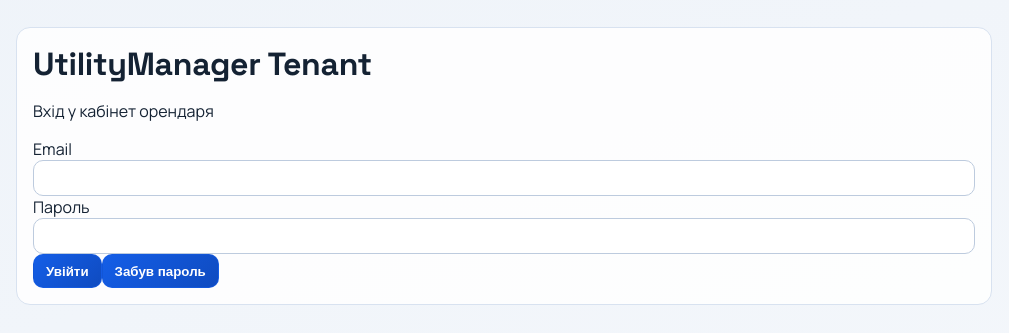
Tenant flow › shows localized error when tenant portal is disabled
This screenshot has width=1009, height=333.
In the field labelled "Email": point(504, 178) [33, 160, 975, 196], type "tenant@example.com"
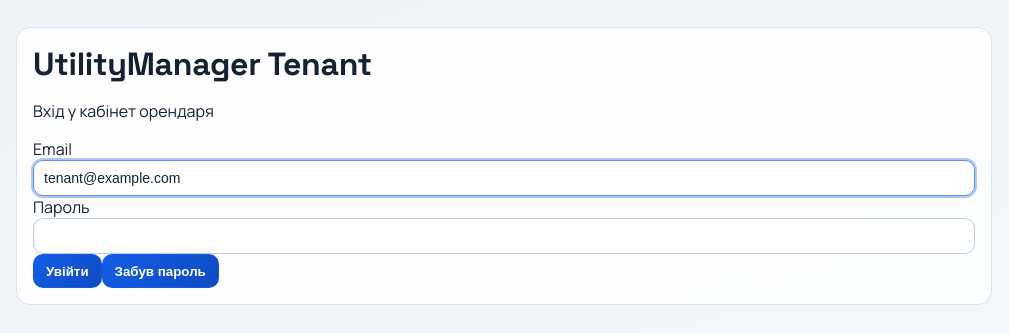
In the password field labelled "Пароль": point(504, 236) [33, 218, 975, 254], type "StrongPass1"
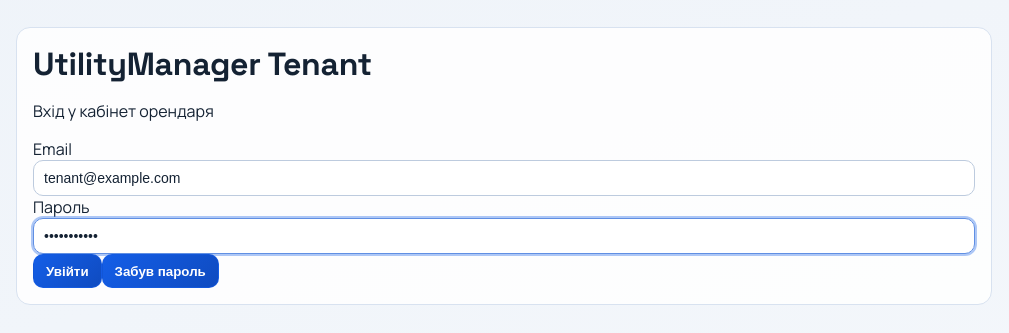
Click the button "Увійти": point(67, 271) [33, 254, 102, 288]
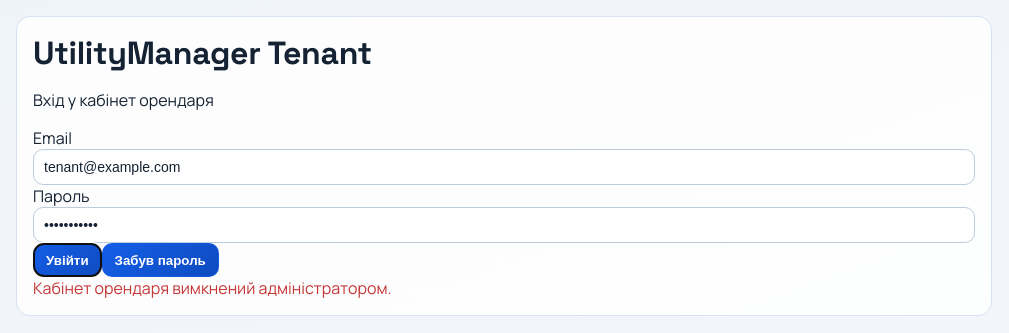
Now the text "Кабінет орендаря вимкнений адміністратором." is shown, box [33, 277, 392, 299]
